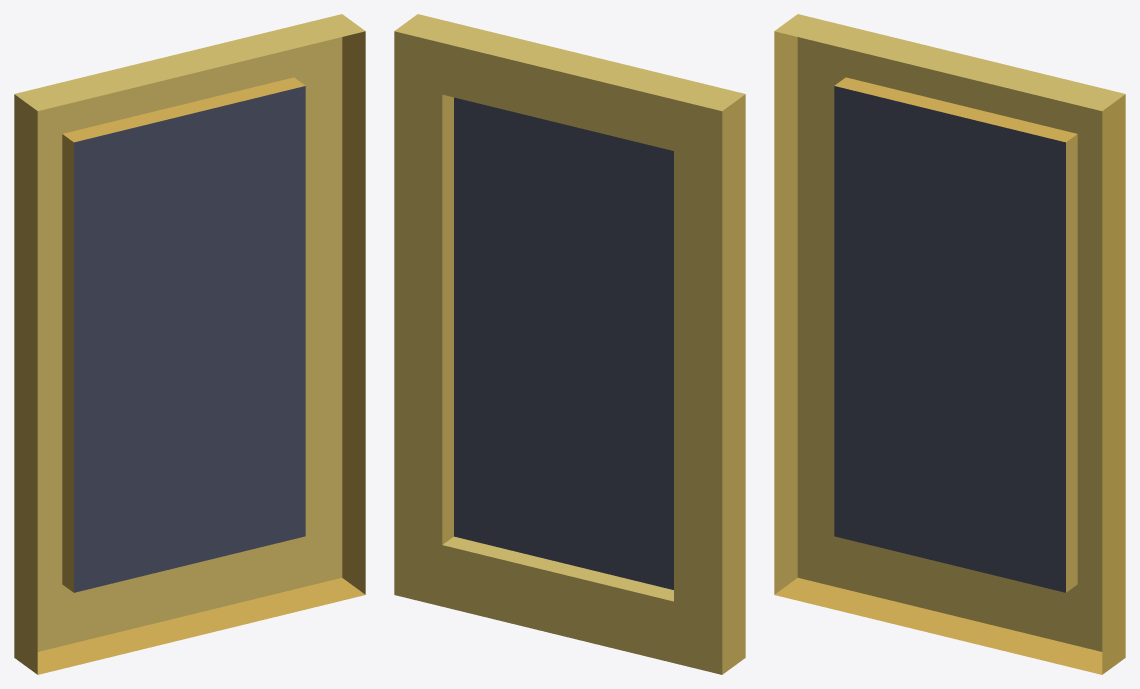
File: squidgame_props_platform_decoration3_yellow.fbx
3 renders of one model, left to right at view 1: azimuth 30°, elevation 25°; view 2: azimuth 150°, elevation 25°; view 3: azimuth 330°, elevation 25°, orthographic.
Parts seen in each view (by area): view 1: squidgame_props_platform_decoration3_yellow; view 2: squidgame_props_platform_decoration3_yellow; view 3: squidgame_props_platform_decoration3_yellow.
Boxes of the visible parts, x1,y1,x2,y2 form: squidgame_props_platform_decoration3_yellow: (14,14,365,674); squidgame_props_platform_decoration3_yellow: (394,14,745,674); squidgame_props_platform_decoration3_yellow: (774,14,1125,674).
Size of the model in its own units: 0.8875 by 1.46 by 0.1104.
